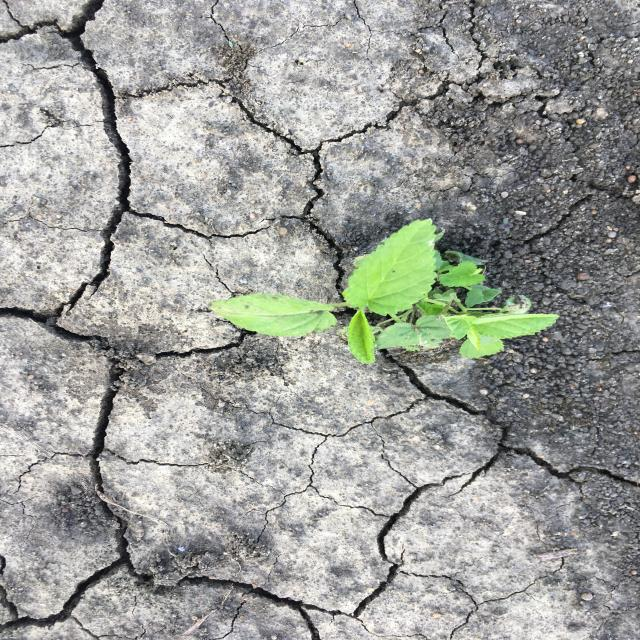PricklySida: (206, 215, 563, 365)
